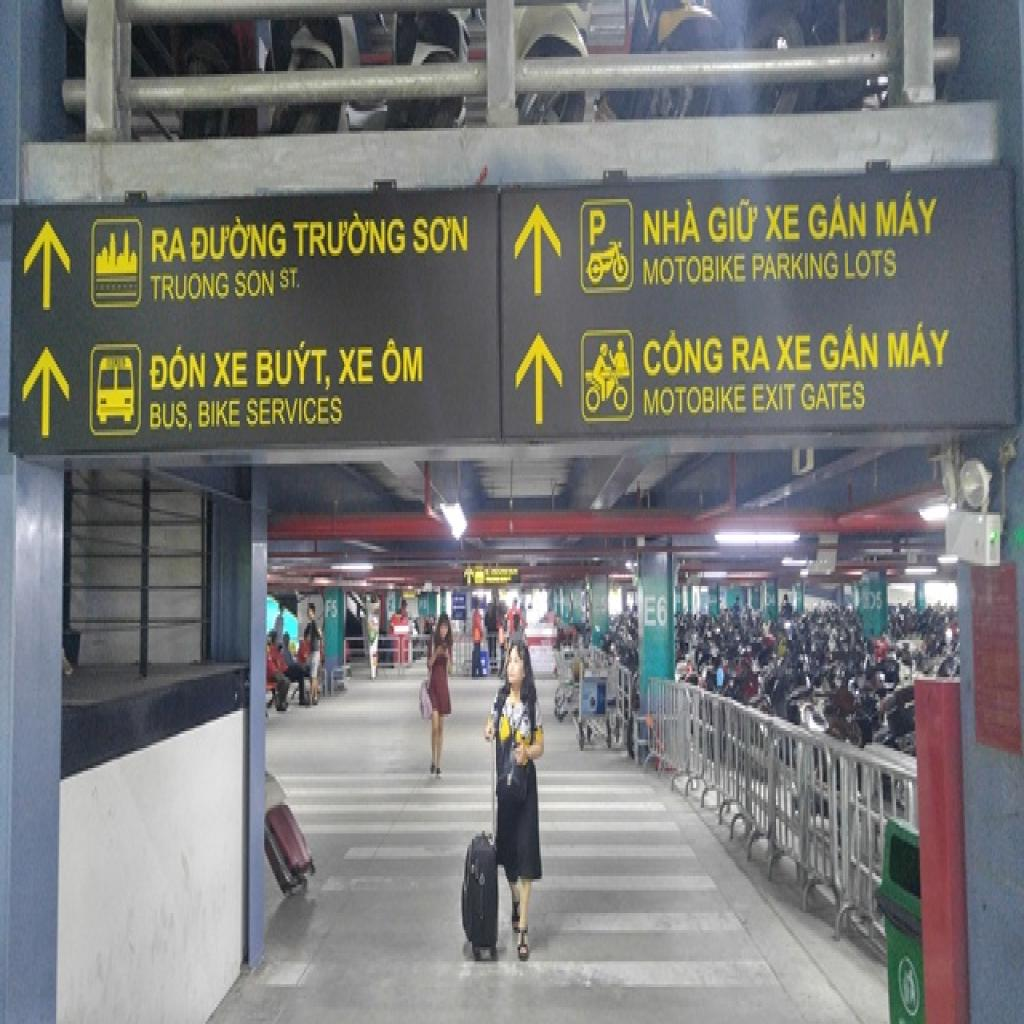text: (291, 210, 410, 259), (190, 214, 290, 264), (643, 327, 725, 381), (640, 250, 749, 290), (254, 338, 333, 392), (244, 392, 346, 430), (886, 318, 952, 376), (642, 384, 748, 418), (875, 190, 941, 242), (642, 196, 704, 250), (808, 190, 869, 244), (819, 324, 882, 376), (750, 248, 840, 284), (150, 342, 208, 396), (149, 270, 232, 307), (412, 210, 470, 259), (379, 332, 427, 390), (707, 196, 760, 248), (800, 378, 869, 416), (842, 244, 899, 282), (210, 344, 250, 396), (732, 330, 774, 378), (150, 225, 190, 270), (338, 344, 376, 390), (195, 396, 243, 432), (763, 202, 803, 245), (774, 330, 814, 373), (149, 398, 195, 435), (234, 264, 276, 304), (752, 381, 798, 415), (642, 592, 668, 632), (587, 208, 608, 250), (278, 262, 304, 293), (594, 594, 610, 618), (869, 589, 883, 614), (325, 597, 339, 620), (766, 592, 778, 608)
